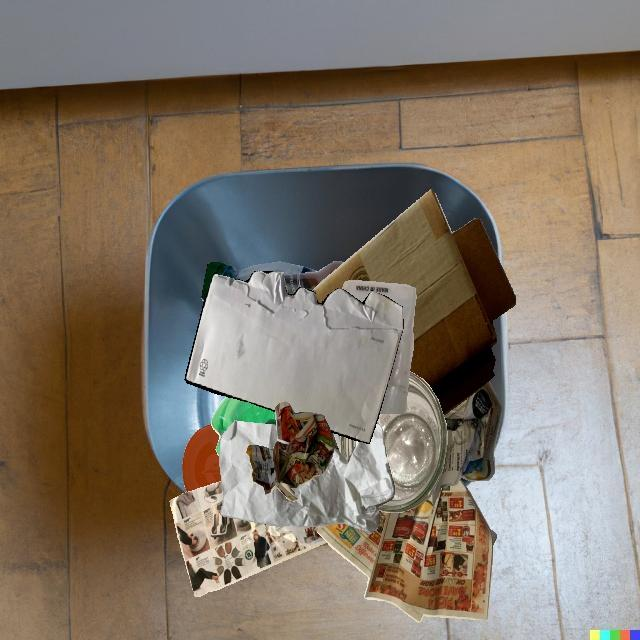cardboard: (312, 189, 516, 416)
glass: (377, 371, 448, 513), (284, 261, 344, 294)
paper: (184, 271, 403, 443), (317, 479, 493, 622), (220, 421, 394, 533), (169, 480, 327, 597), (246, 401, 334, 502), (432, 381, 502, 507), (490, 529, 497, 545)
plastic: (342, 280, 416, 414), (201, 261, 318, 301), (211, 396, 276, 456), (182, 424, 222, 492), (334, 433, 341, 455)
